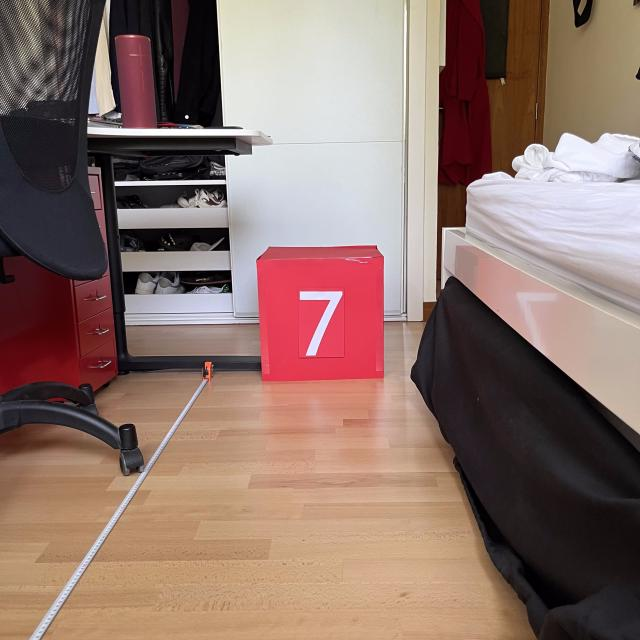box: (252, 241, 388, 384)
